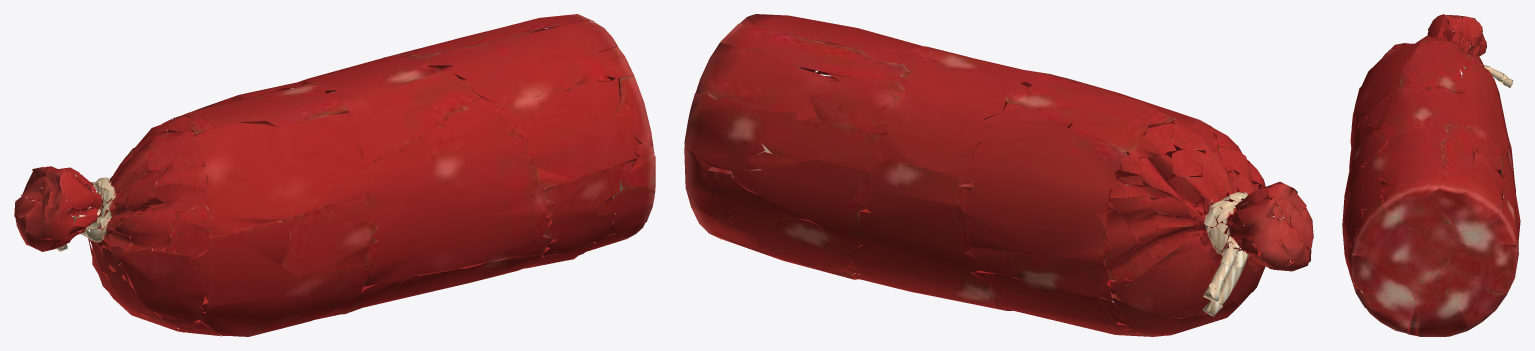
Rendered from salami.glb.
The picture shows the model from 3 angles, left to right: view 1: azimuth 30°, elevation 25°; view 2: azimuth 150°, elevation 25°; view 3: azimuth 270°, elevation 25°; orthographic projection. The views are drawn at different scales.
Parts seen in each view (by area): view 1: salami; view 2: salami; view 3: salami.
Part boxes in pixels (<box>): salami: <box>14,14,655,336</box>; salami: <box>684,14,1313,336</box>; salami: <box>1342,14,1520,336</box>.
Bounding box in the file's own units: 0.12 × 0.0427 × 0.0446.
1 material, 1 textured.
